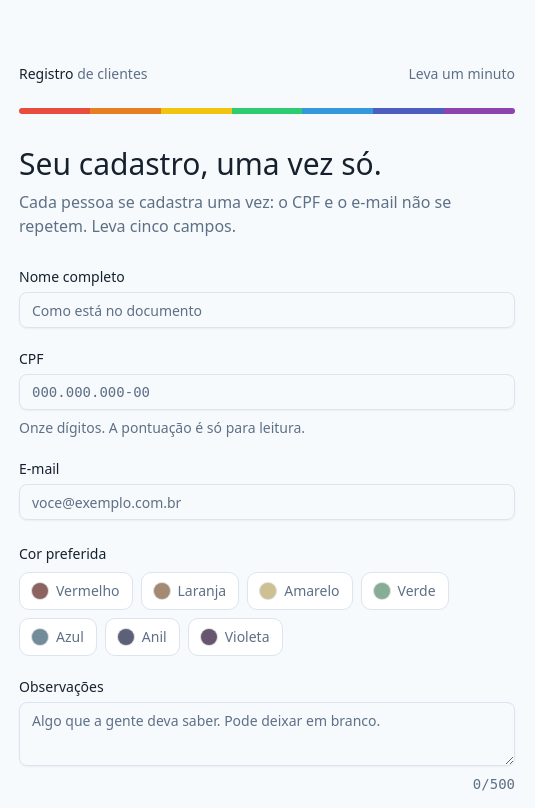
Scenario: ClientForm › mostra o 409 de CPF duplicado no campo do CPF
This screenshot has width=535, height=808.
In the field labelled "Nome completo": (267, 310) x1=19 y1=292 x2=515 y2=328, type "Maria Silva"
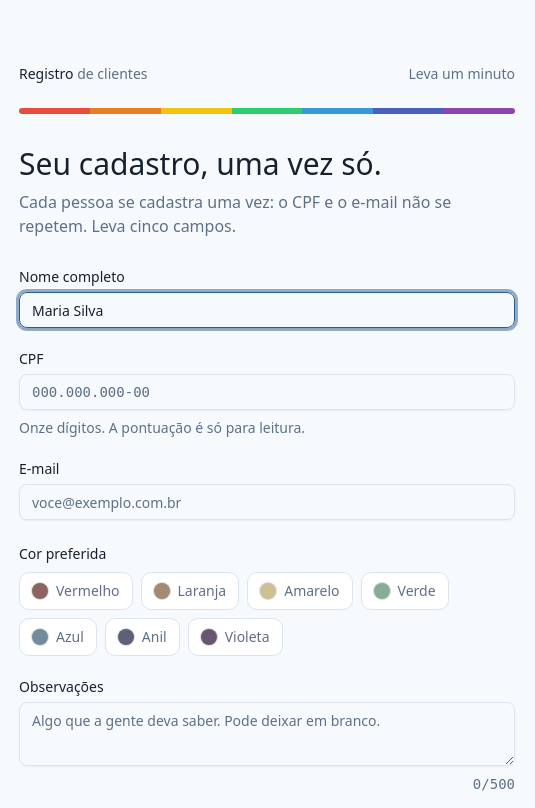
In the field labelled "CPF": (267, 392) x1=19 y1=374 x2=515 y2=410, type "123.456.789-09"
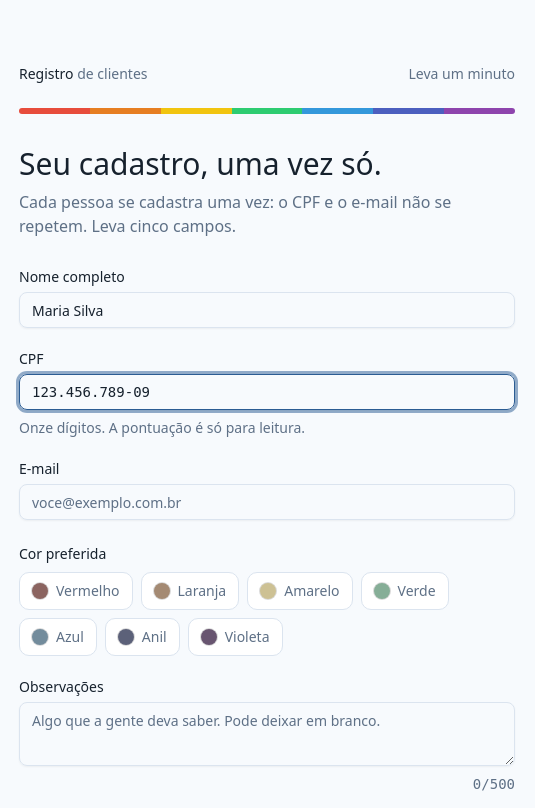
In the field labelled "E-mail": (267, 502) x1=19 y1=484 x2=515 y2=520, type "maria@exemplo.com"
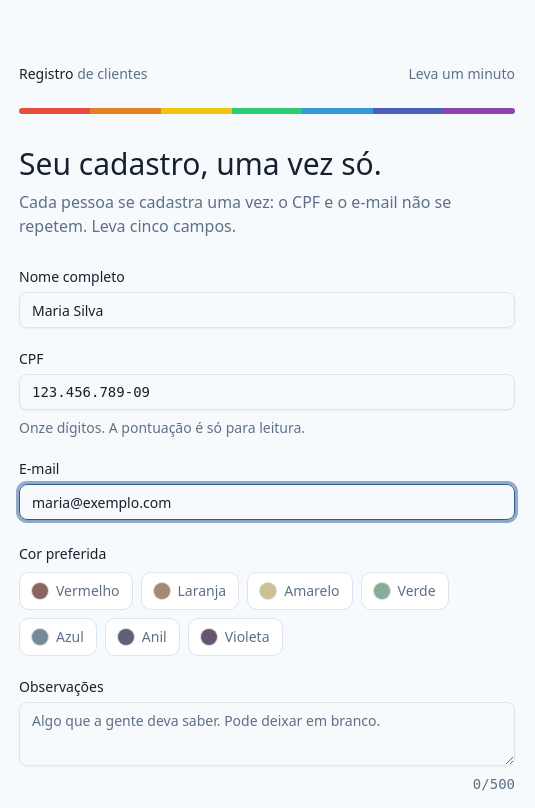
Click the radio button labelled "Verde": (405, 591) x1=361 y1=572 x2=449 y2=610
(page scrolled)
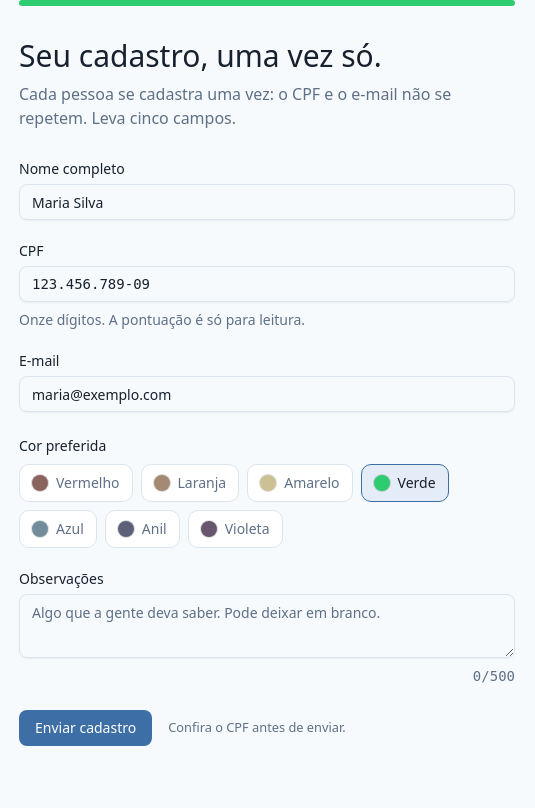
Click the button "Enviar cadastro": (86, 728) x1=19 y1=710 x2=152 y2=746
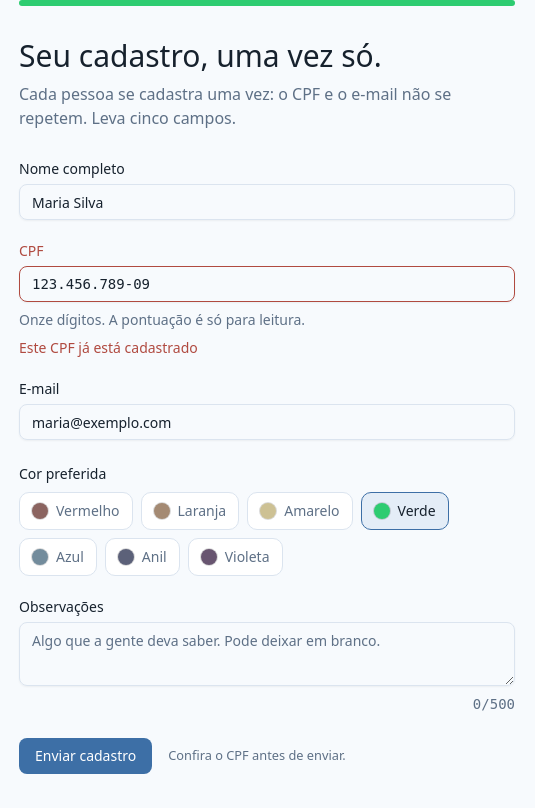
Result: the text "Este CPF já está cadastrado" is shown at x1=19 y1=338 x2=198 y2=357
